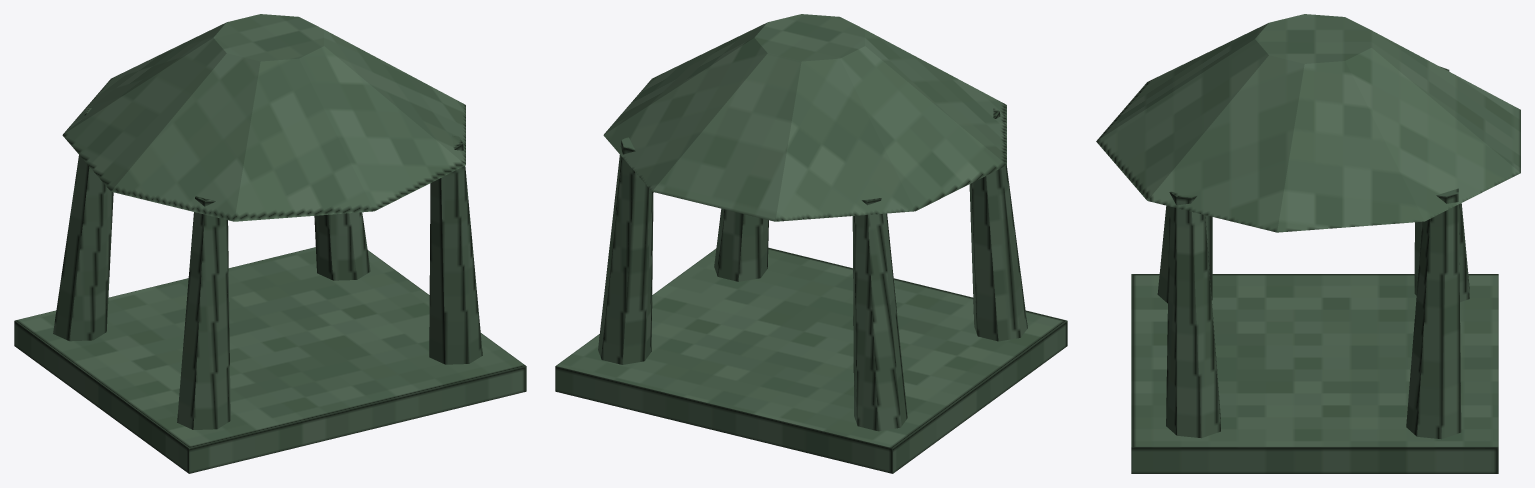
Rendered from garden_root_pavilion_structure.obj.
The picture shows the model from 3 angles, left to right: view 1: azimuth 30°, elevation 25°; view 2: azimuth 150°, elevation 25°; view 3: azimuth 270°, elevation 25°; orthographic projection. The views are drawn at different scales.
Bounding box in the file's own units: 6.11 × 5.44 × 6.01.
1 material, 1 textured.
